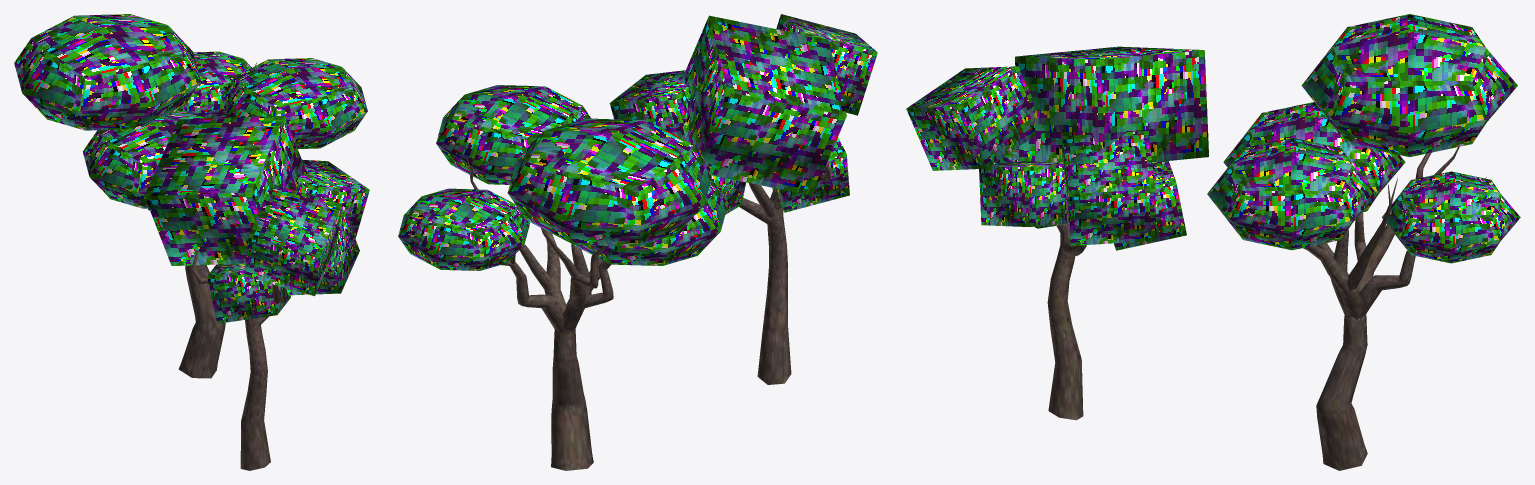
File: tree.fbx
3 renders of one model, left to right at view 1: azimuth 30°, elevation 25°; view 2: azimuth 150°, elevation 25°; view 3: azimuth 270°, elevation 25°, orthographic. The views are drawn at different scales.
Parts seen in each view (by area): view 1: tree_round, tree_cubic; view 2: tree_round, tree_cubic; view 3: tree_round, tree_cubic.
Part boxes in pixels (x1,y1,x2,y2): tree_round: [14, 14, 367, 378]; tree_cubic: [144, 116, 369, 470]; tree_round: [398, 85, 728, 470]; tree_cubic: [609, 14, 877, 384]; tree_round: [1207, 14, 1520, 470]; tree_cubic: [906, 46, 1208, 420].
Size of the model in its own units: 732 by 815 by 1153.
2 materials, 2 textured.
